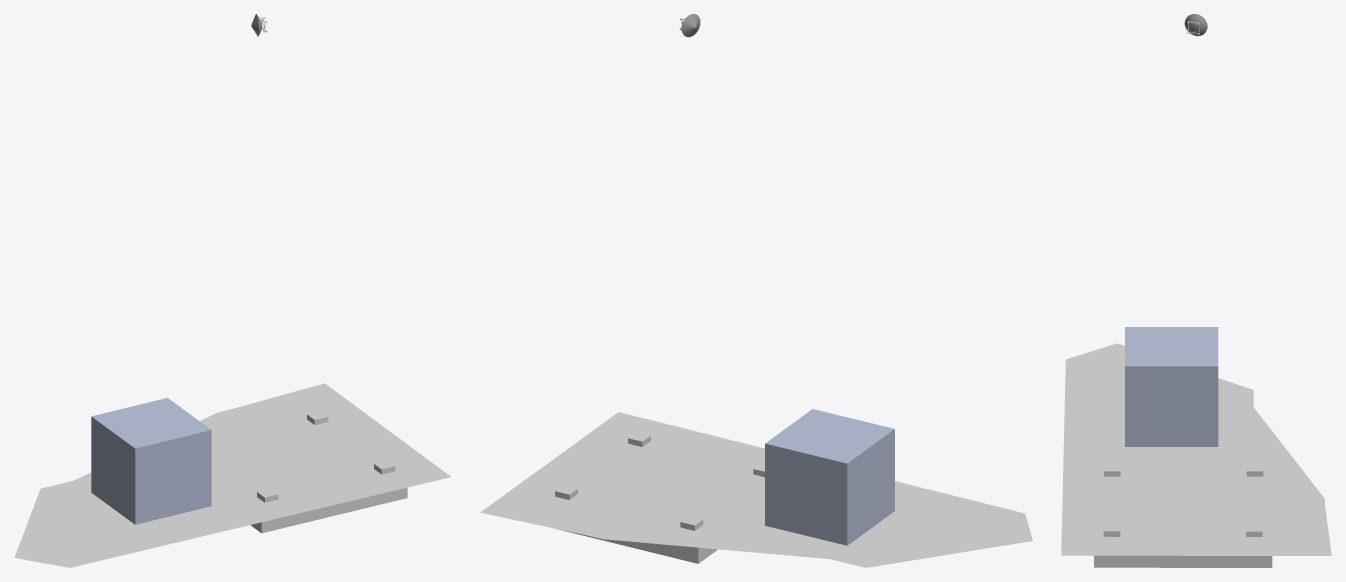
Rendered from 与座局.glb.
3 renders of one model, left to right at view 1: azimuth 30°, elevation 25°; view 2: azimuth 150°, elevation 25°; view 3: azimuth 270°, elevation 25°, orthographic. The views are drawn at different scales.
Visible parts, largest first — view 1: SketchUp, group_36, SketchUp.002, group_10; view 2: SketchUp, group_36, SketchUp.002, group_10; view 3: SketchUp, SketchUp.002, group_36, group_10, group_54.
Part boxes in pixels (x1,y1,x2,y2): SketchUp: [14, 383, 450, 567]; group_36: [91, 398, 211, 524]; SketchUp.002: [211, 410, 408, 508]; group_10: [250, 487, 407, 533]; SketchUp: [480, 412, 1032, 567]; group_36: [765, 409, 894, 545]; SketchUp.002: [540, 431, 764, 537]; group_10: [555, 528, 717, 563]; SketchUp: [1061, 343, 1331, 555]; SketchUp.002: [1092, 465, 1274, 541]; group_36: [1125, 327, 1218, 446]; group_10: [1094, 555, 1272, 567]; group_54: [1185, 14, 1206, 35].
Size of the model in its own units: 42.39 by 46.51 by 22.79.
